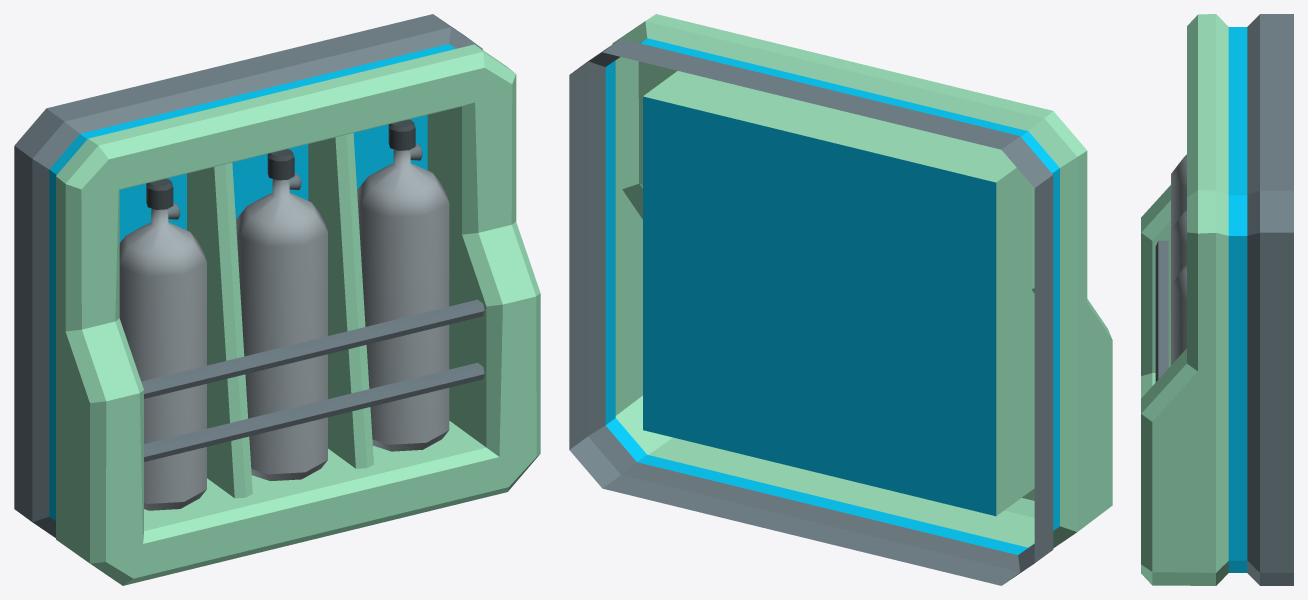
The model's file is Oxygen Tanks Rack 01.fbx.
The picture shows the model from 3 angles, left to right: view 1: azimuth 30°, elevation 25°; view 2: azimuth 150°, elevation 25°; view 3: azimuth 270°, elevation 25°; orthographic projection. The views are drawn at different scales.
Visible parts, largest first — view 1: Oxygen_Tanks_Rack_01; view 2: Oxygen_Tanks_Rack_01; view 3: Oxygen_Tanks_Rack_01.
Part boxes in pixels (x1=…): Oxygen_Tanks_Rack_01: x1=14, y1=14, x2=540, y2=585; Oxygen_Tanks_Rack_01: x1=569, y1=14, x2=1112, y2=585; Oxygen_Tanks_Rack_01: x1=1141, y1=14, x2=1293, y2=585.
Size of the model in its own units: 149 by 134 by 46.87.
